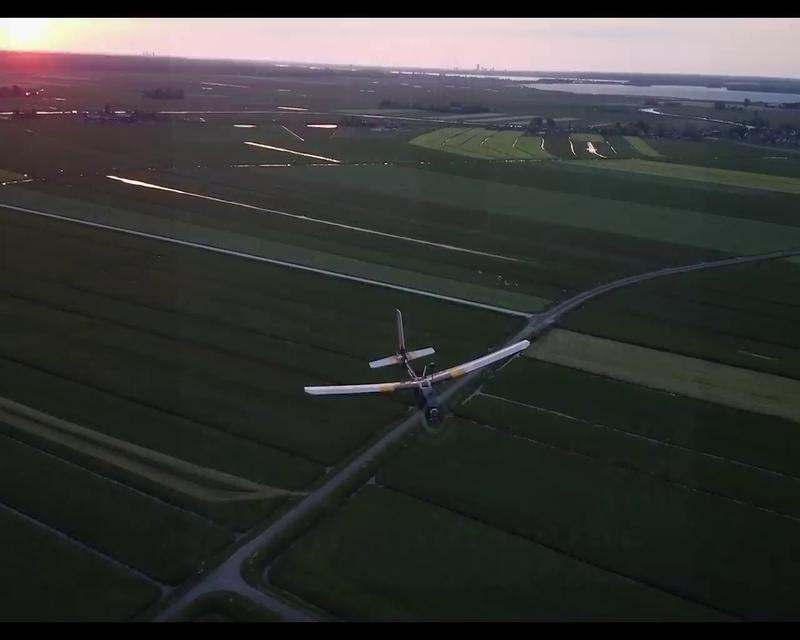UAV: (307, 308, 531, 423)
